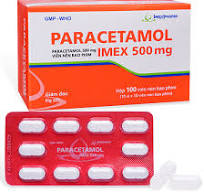Paracetamol: (49, 27, 171, 45), (56, 145, 104, 153)
